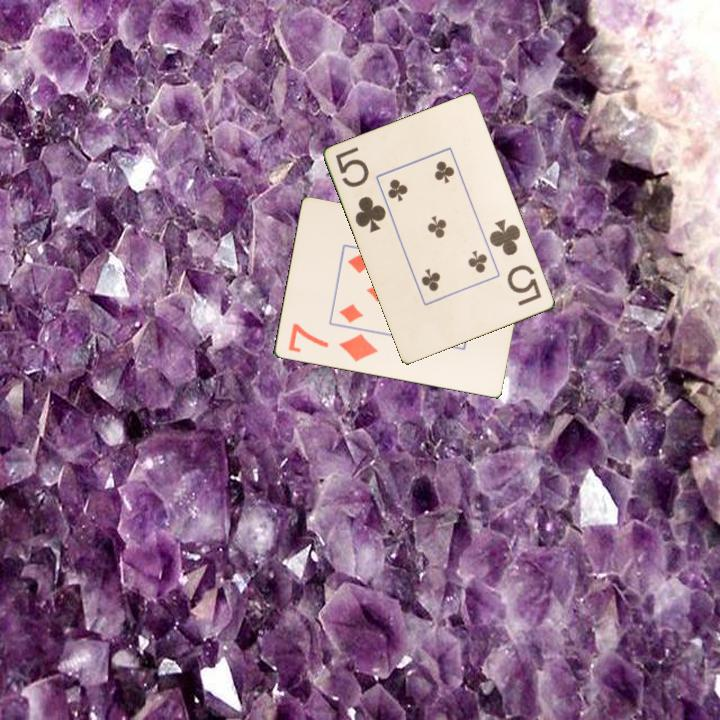5c: (486, 215, 545, 309), (332, 143, 389, 236)
7d: (284, 320, 380, 365)
